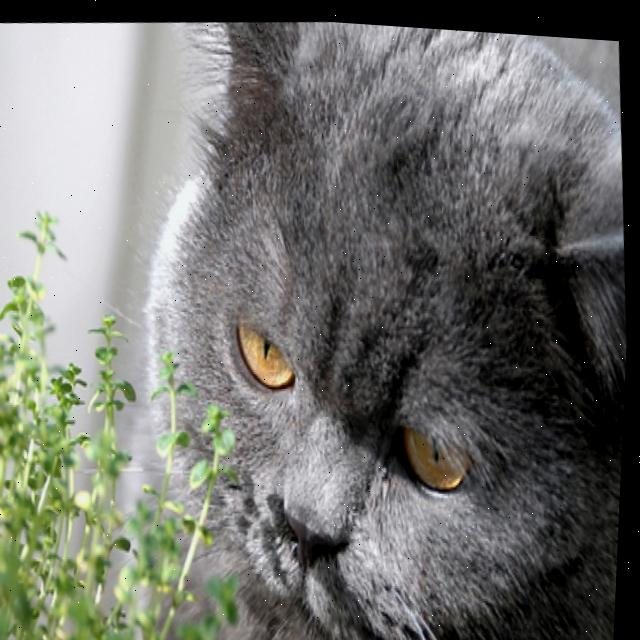British Shorthair: (111, 7, 640, 640)
